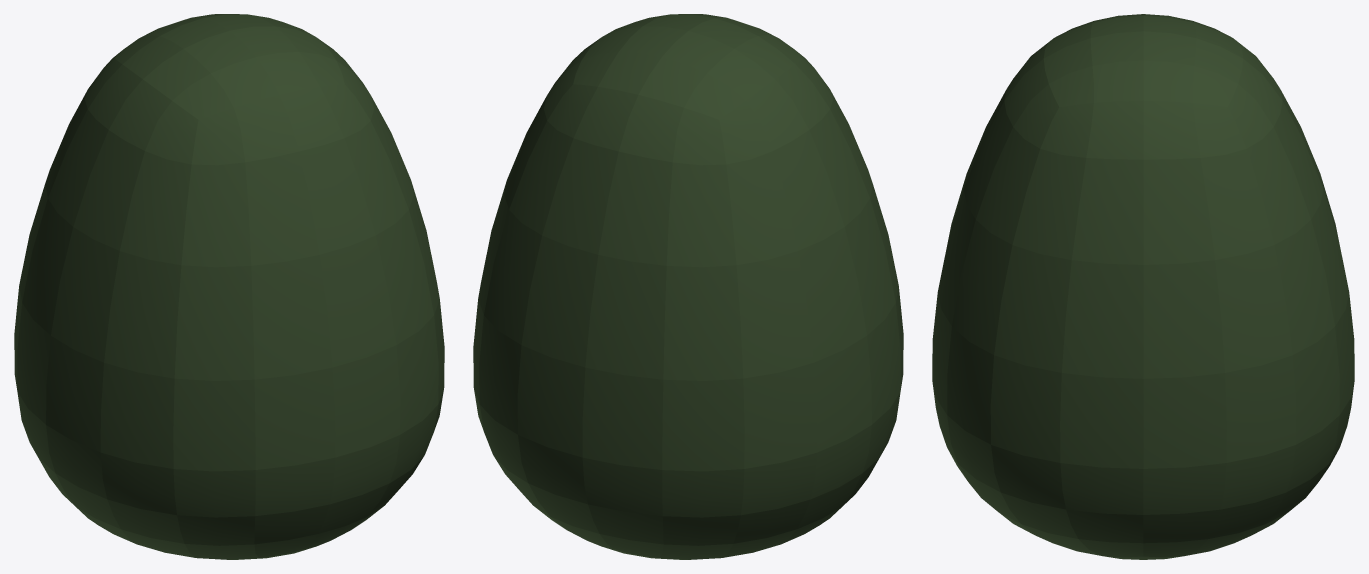
File: GeckoEggModel.fbx
3 renders of one model, left to right at view 1: azimuth 30°, elevation 25°; view 2: azimuth 150°, elevation 25°; view 3: azimuth 270°, elevation 25°, orthographic.
Parts seen in each view (by area): view 1: Egg_Whole; view 2: Egg_Whole; view 3: Egg_Whole.
Part boxes in pixels (x1,y1,x2,y2): Egg_Whole: [14, 14, 444, 559]; Egg_Whole: [473, 14, 903, 559]; Egg_Whole: [932, 14, 1354, 559].
Bounding box in the file's own units: 35.03 × 45.75 × 35.03.
